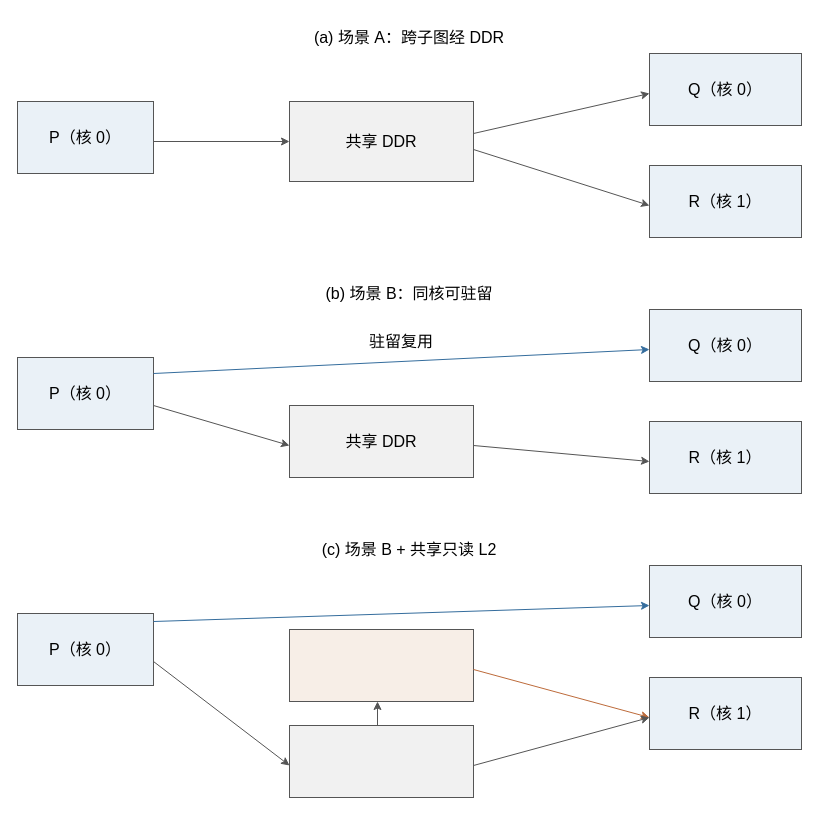
The diagram is 819 pixels wide and 815 high, and some of its shapes have lost their labels. Here are the shapes that lost their labels. From the top down, the centre of each, then its label:
At point (381, 665): "FIFO L2".
At point (381, 761): "DDR".
